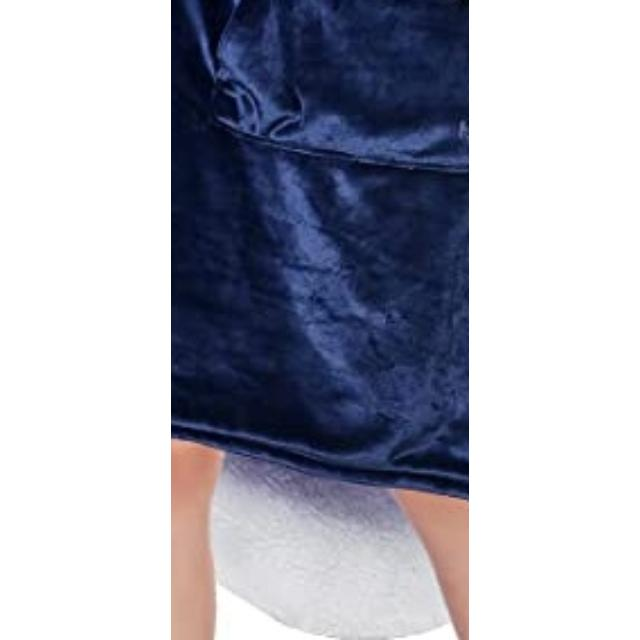polyester: (171, 1, 469, 463)
